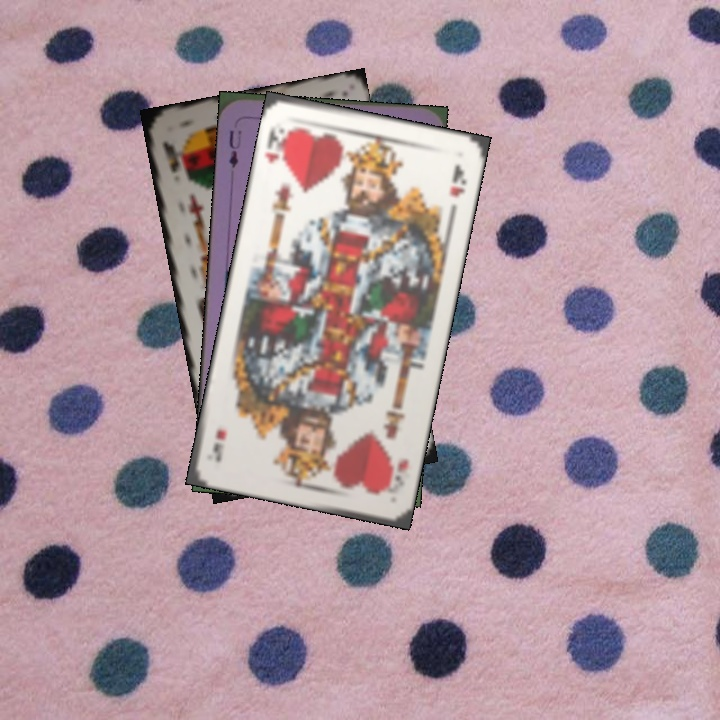EU: (225, 126, 244, 171)
HK: (260, 122, 293, 166), (381, 455, 411, 496)
SK: (159, 137, 182, 175)
